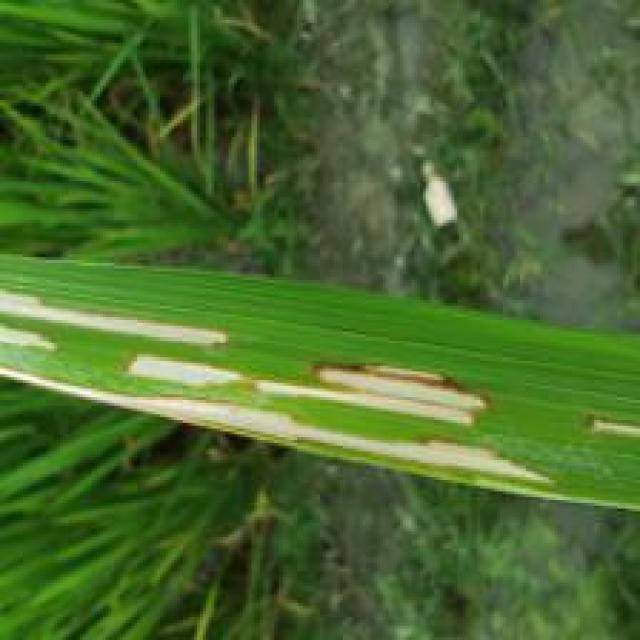Rice_Hispa: (2, 369, 553, 489), (128, 357, 484, 426), (3, 291, 223, 351)
